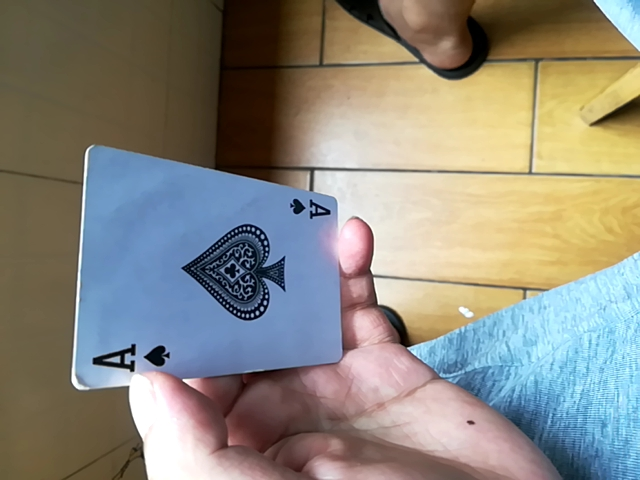ht a: (73, 143, 354, 400)
